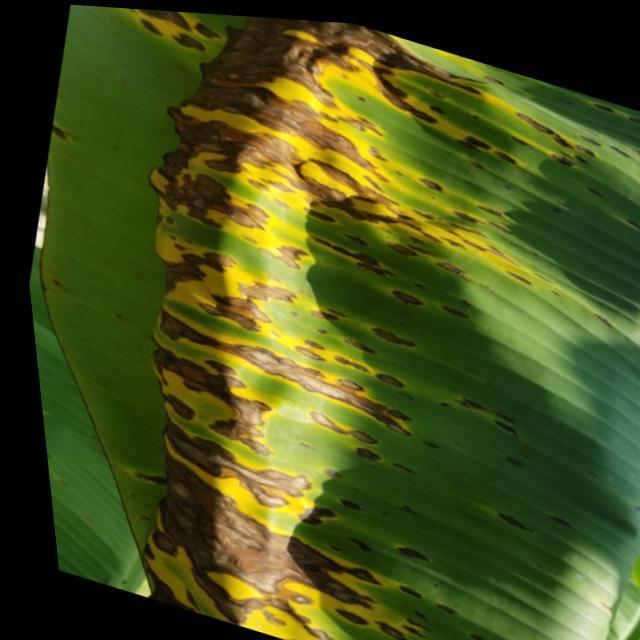Early_rust: (40, 0, 604, 640)
